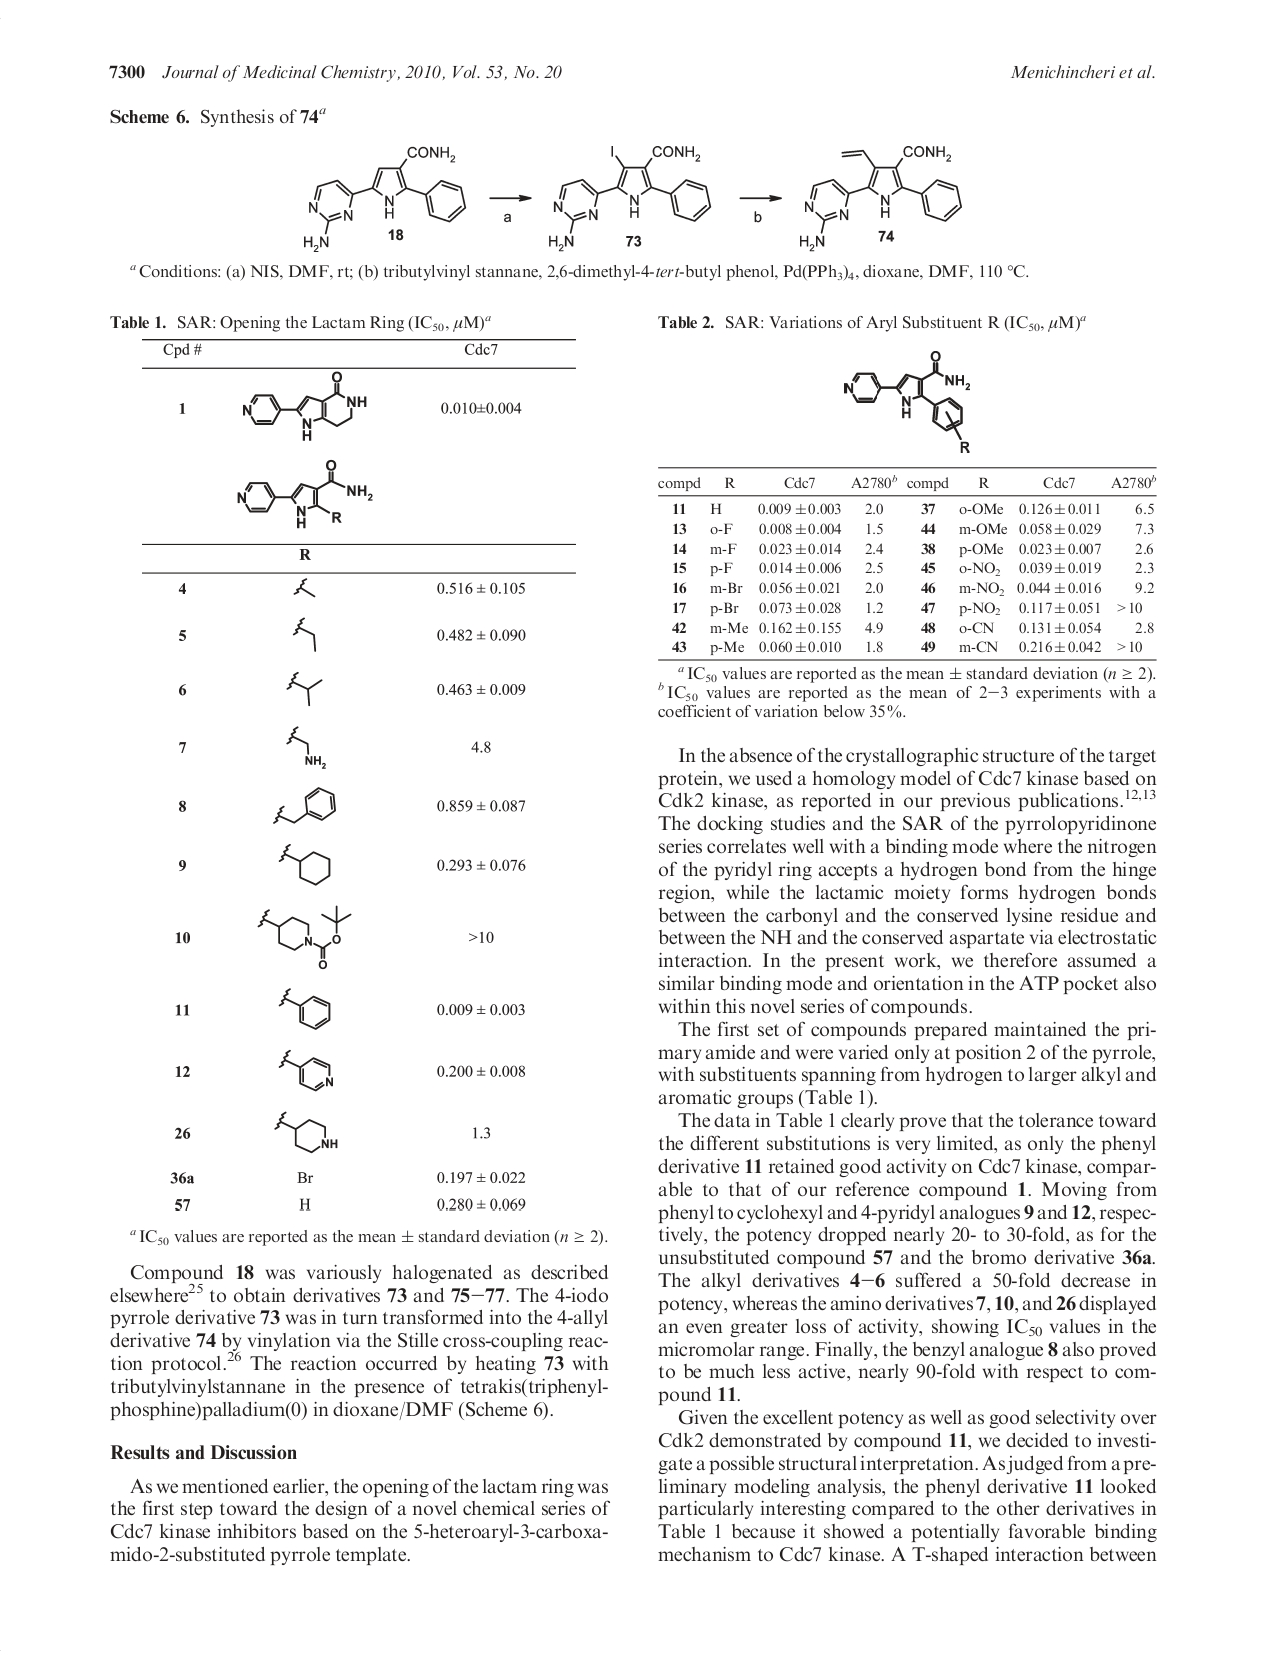exist_molecular: (547, 141, 715, 251), (798, 141, 964, 253), (301, 144, 467, 254), (842, 348, 973, 456), (235, 457, 375, 529), (241, 371, 368, 444), (254, 903, 355, 969), (270, 1109, 340, 1154), (270, 785, 339, 829), (274, 1048, 336, 1093), (277, 984, 332, 1032), (277, 840, 332, 887), (285, 723, 328, 770), (285, 670, 324, 707), (291, 616, 320, 654), (291, 576, 319, 598)
